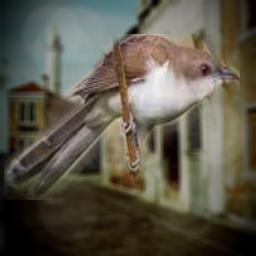Cuckoo: (4, 34, 240, 200)
